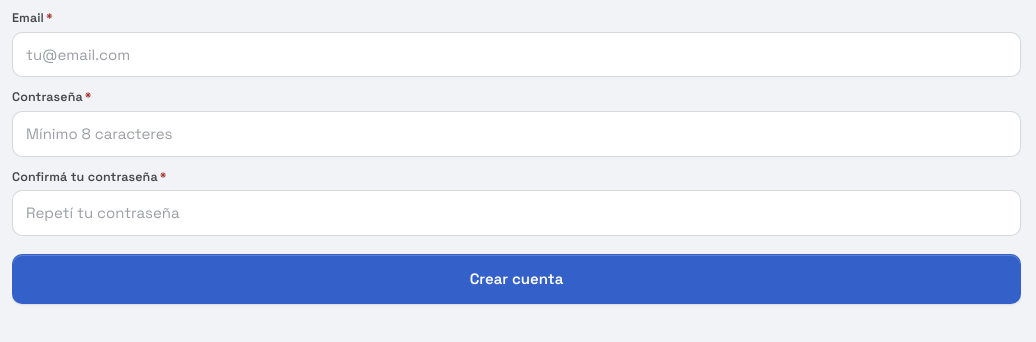
RegisterForm › muestra error si el email es inválido
Type "no-es-email" into the field labelled "Email*" at (516, 54), box [12,32,1021,77]
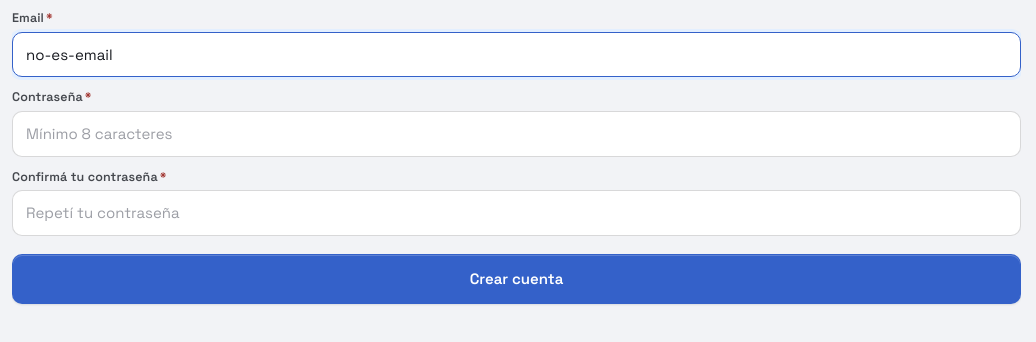
Type "password123" into the password field labelled "Contraseña*" at (516, 134), box [12,111,1021,157]
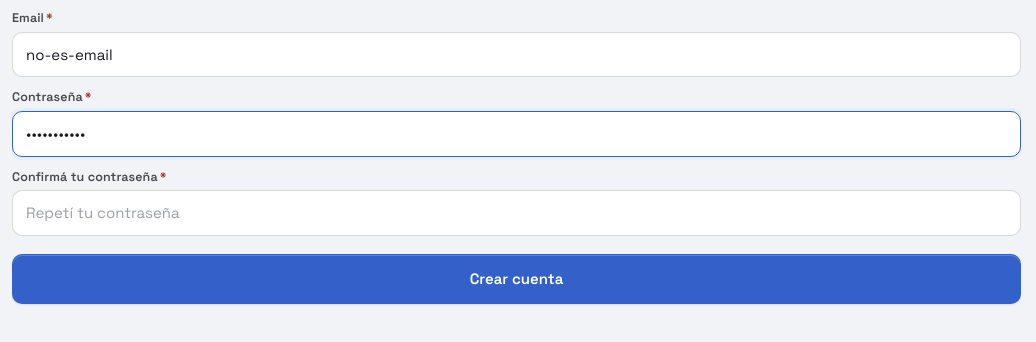
Type "password123" into the password field labelled "Confirmá tu contraseña*" at (516, 213), box [12,190,1021,236]
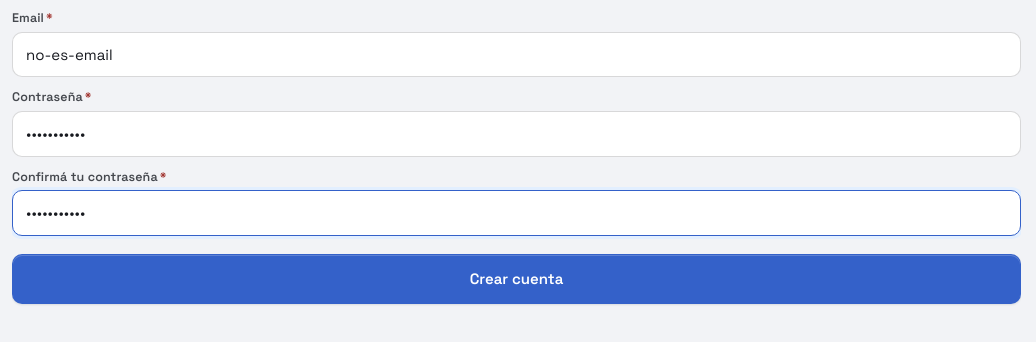
Click the button "Crear cuenta" at (516, 279), box [12,254,1021,304]
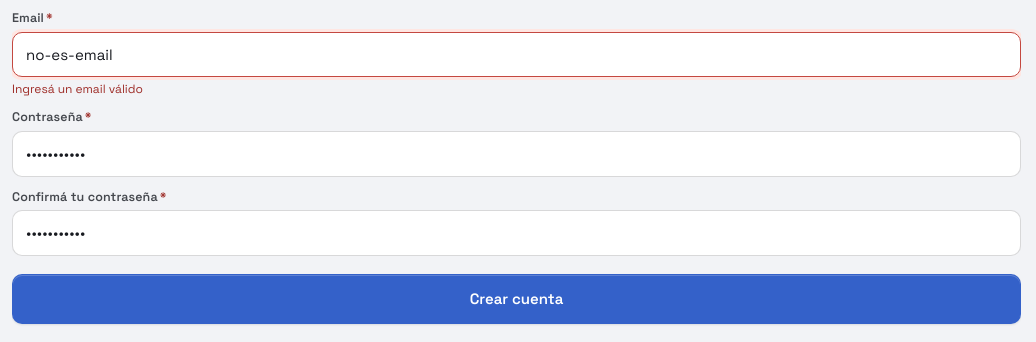
Expected: the text "Ingresá un email válido" is shown, [12,81,143,97]
